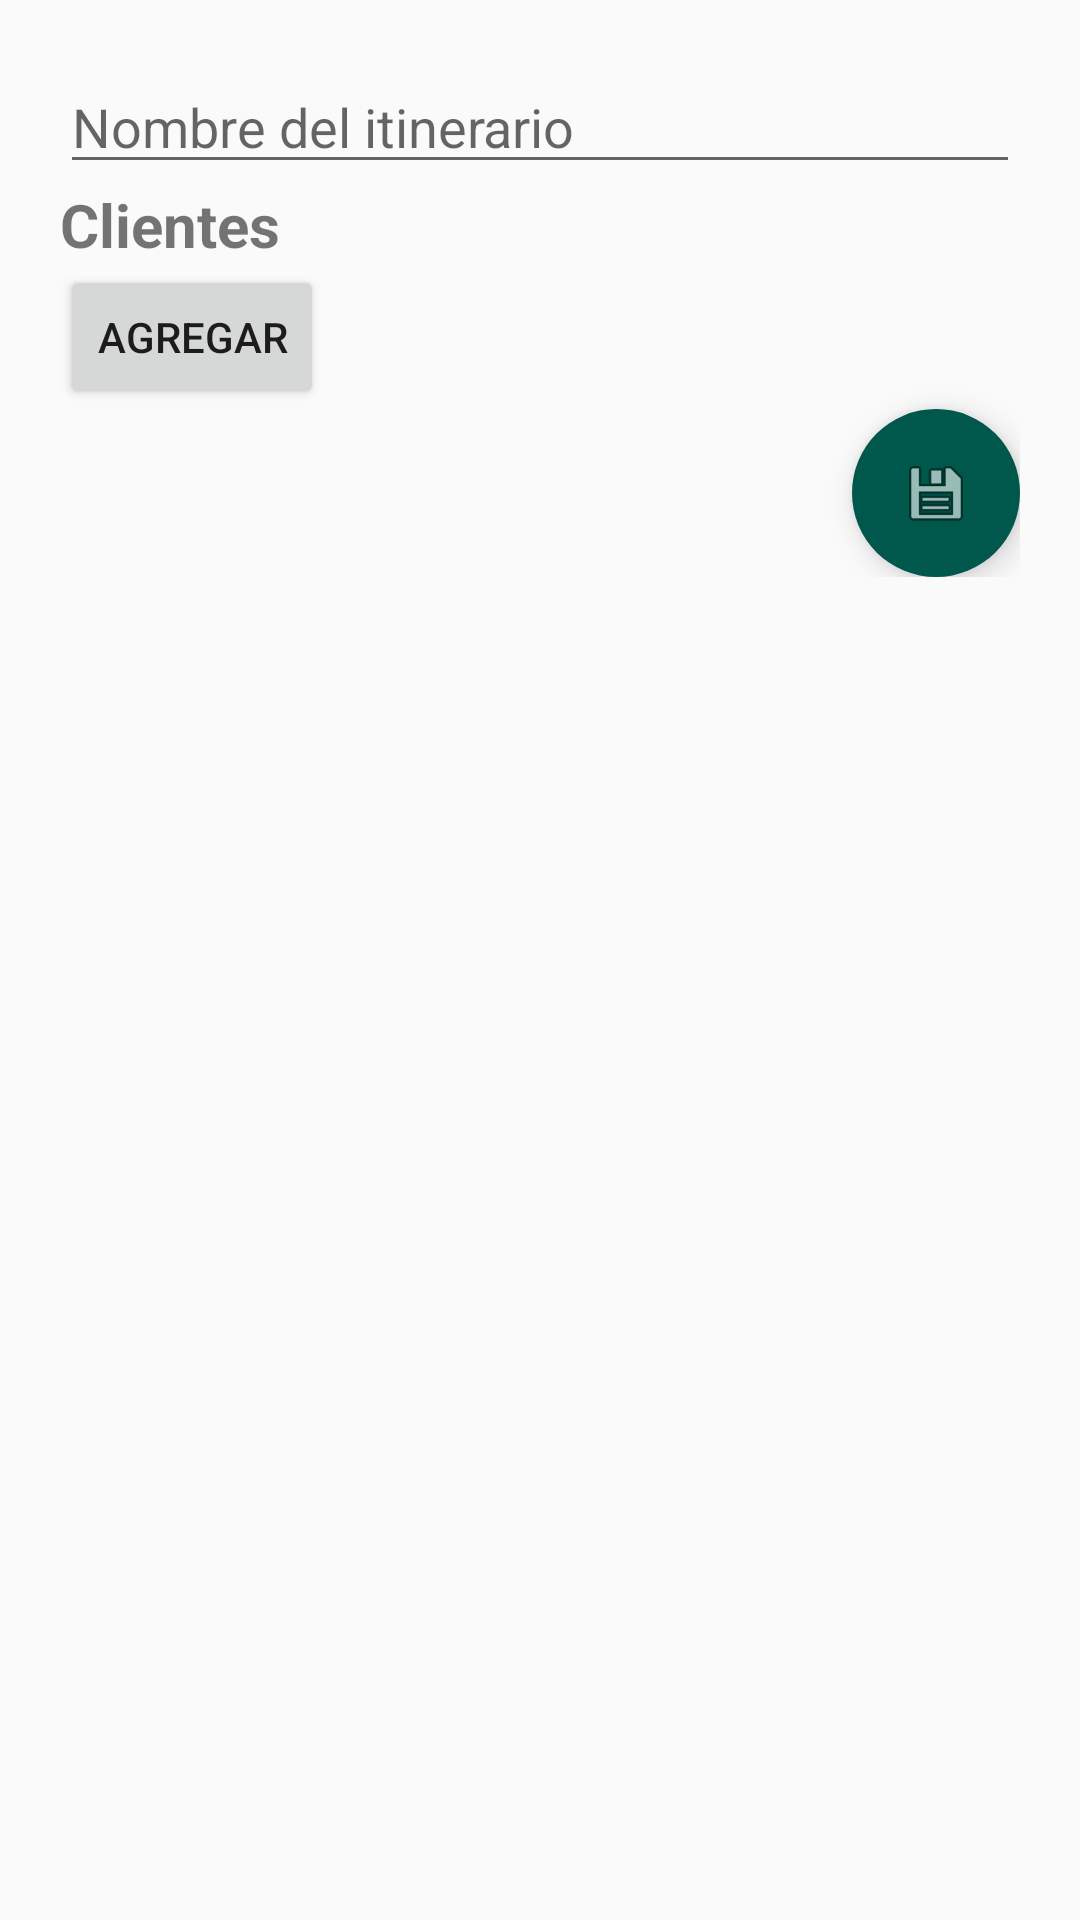

Icons on this 1080px x 1920px Android screen, each with the point to tap as (x=x, y=y):
save: (x=936, y=493)
